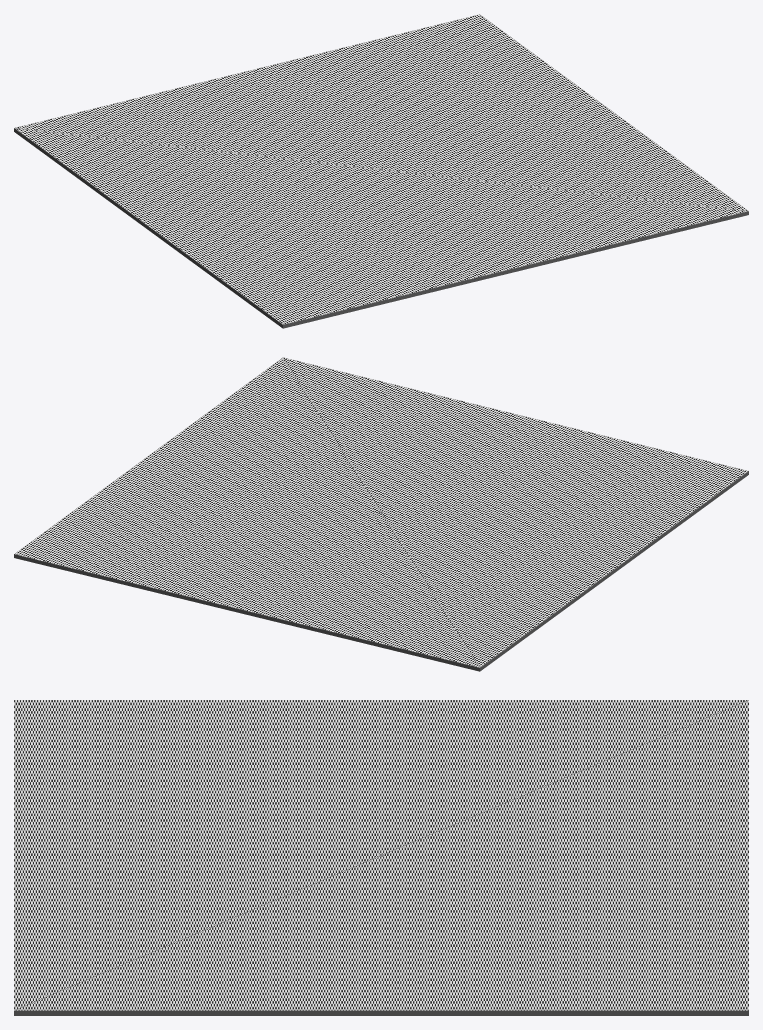
The picture shows the model from 3 angles, top to bottom: view 1: azimuth 30°, elevation 25°; view 2: azimuth 150°, elevation 25°; view 3: azimuth 270°, elevation 25°; orthographic projection. The views are drawn at different scales.
Parts seen in each view (by area): view 1: Texture, Baseplate; view 2: Texture, Baseplate; view 3: Texture, Baseplate.
Boxes of the visible parts, left/top/right/bottom form: Texture: left=14, top=14, right=748, bottom=324; Baseplate: left=14, top=128, right=748, bottom=328; Texture: left=14, top=357, right=748, bottom=667; Baseplate: left=14, top=471, right=748, bottom=671; Texture: left=14, top=700, right=748, bottom=1010; Baseplate: left=14, top=1010, right=748, bottom=1015.
Bounding box in the file's own units: 2048 × 17.02 × 2048.
Materials: 4 (2 with a texture image).
